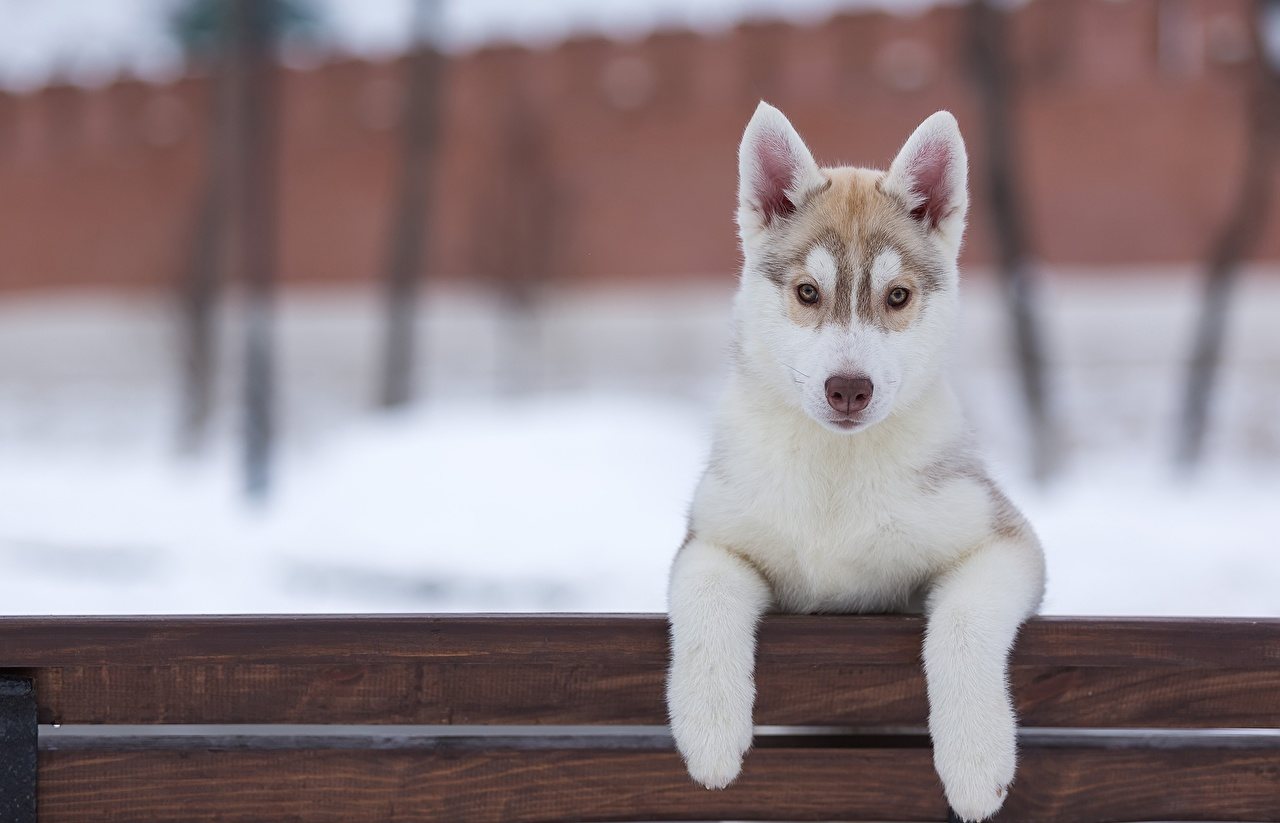husky: (676, 61, 1016, 638)
